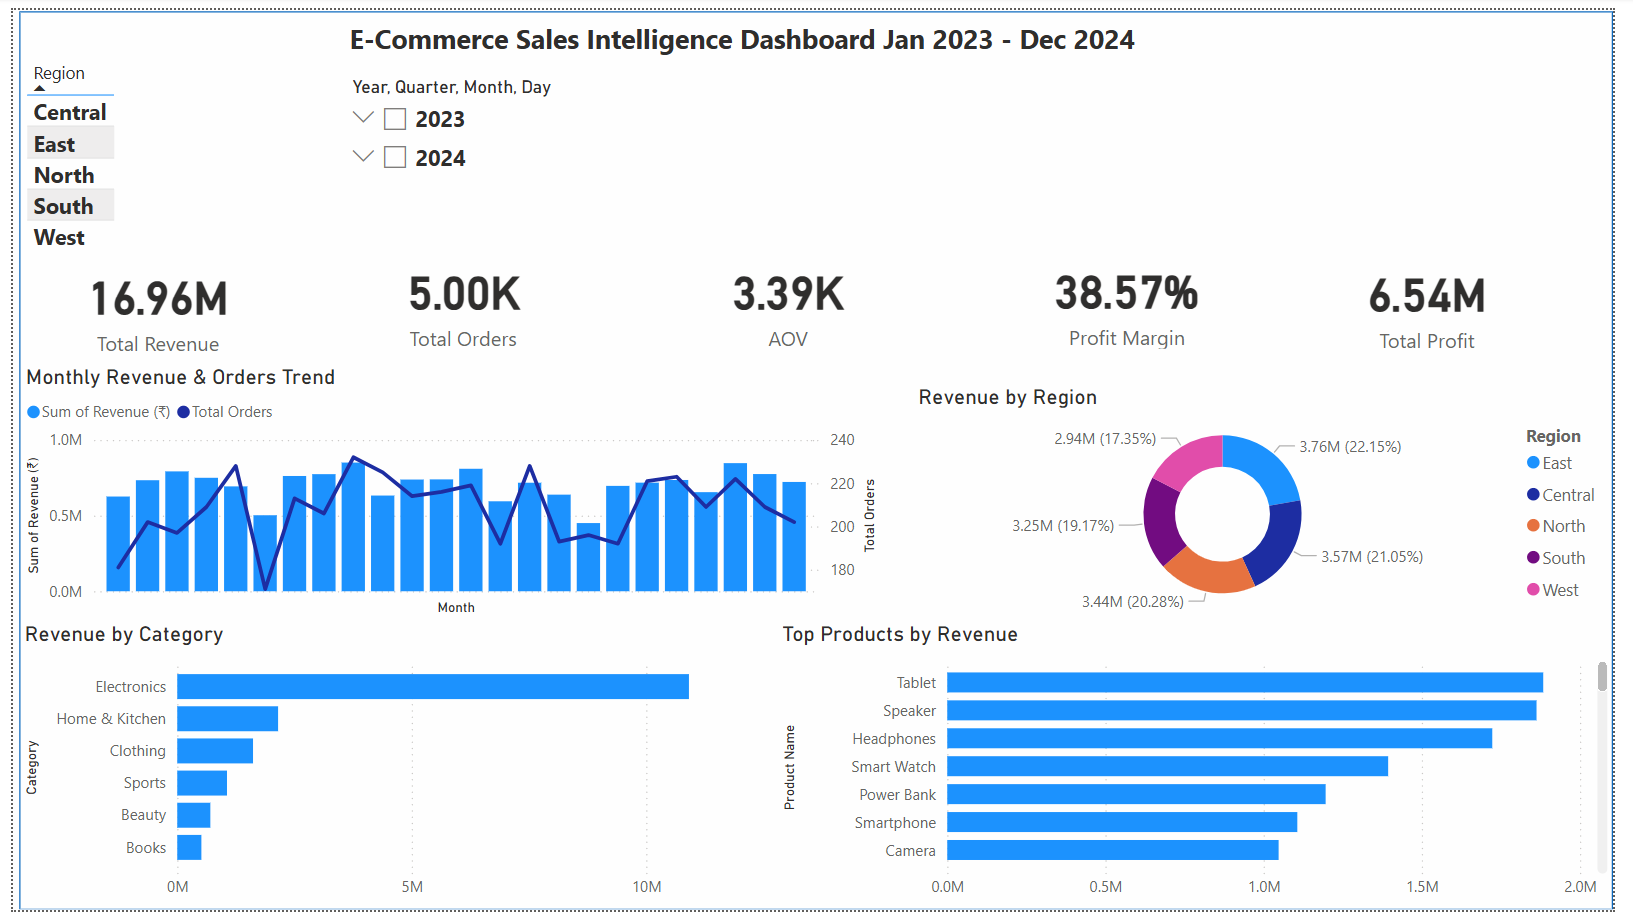

Layout of this report page (visuals, bound fields, positions):
{"tool":"powerbi","page":{"name":"Page 1","canvas":[1280,720],"ordinal":0},"visuals":[{"type":"card","fields":{"Values":["Customer Dimension Table (dim_customer).Total Revenue"]},"box":[0,192.5,231.2,90],"z":0},{"type":"card","fields":{"Values":["Customer Dimension Table (dim_customer).AOV"]},"box":[487.5,192.5,263.8,83.8],"z":1000},{"type":"card","fields":{"Values":["Customer Dimension Table (dim_customer).Total Orders"]},"box":[223.8,192.5,271.2,83.8],"z":2000},{"type":"card","fields":{"Values":["Customer Dimension Table (dim_customer).Profit Margin"]},"box":[751.2,191.2,278.8,85],"z":3000},{"type":"card","fields":{"Values":["Customer Dimension Table (dim_customer).Total Profit"]},"box":[1015,192.5,231.2,85],"z":4000},{"type":"textbox","box":[257.8,1.1,687.8,66.7],"z":5000},{"type":"tableEx","fields":{"Values":["Customer Dimension Table (dim_customer).Region"]},"box":[5,35,242.5,180],"z":6000},{"type":"slicer","fields":{"Values":["fact_orders.Order Date.Variation.Date Hierarchy.Year","fact_orders.Order Date.Variation.Date Hierarchy.Quarter","fact_orders.Order Date.Variation.Date Hierarchy.Month","fact_orders.Order Date.Variation.Date Hierarchy.Day"]},"box":[257.6,47.8,319.6,156.5],"z":7000},{"type":"donutChart","title":"Revenue by Region","fields":{"Category":["fact_orders.Region"],"Y":["Sum(fact_orders.Revenue (₹))"]},"box":[718.8,298.8,561.2,190],"z":8000},{"type":"clusteredBarChart","title":"Revenue by Category","fields":{"Category":["fact_orders.Category"],"Y":["Sum(fact_orders.Revenue (₹))"]},"box":[4.4,488.9,593.3,231.1],"z":9000},{"type":"clusteredBarChart","title":"Top Products by Revenue","fields":{"Category":["fact_orders.Product Name"],"Y":["Sum(fact_orders.Revenue (₹))"]},"box":[610,488.9,670,231.1],"z":10000},{"type":"lineClusteredColumnComboChart","title":"Monthly Revenue & Orders Trend","fields":{"Category":["fact_orders.MonthYear2"],"Y":["Sum(fact_orders.Revenue (₹))"],"Y2":["Customer Dimension Table (dim_customer).Total Orders"]},"box":[5,282.5,691.2,206.2],"z":11000}]}

Visuals, with their boxes in screenshot pixels (x1, y1, x2, y2), scaled from the page's 1280x720 canvas onto the 1633x922 screenshot:
card - Customer Dimension Table (dim_customer).Total Revenue: rect(0, 247, 295, 362)
card - Customer Dimension Table (dim_customer).AOV: rect(622, 247, 958, 354)
card - Customer Dimension Table (dim_customer).Total Orders: rect(286, 247, 632, 354)
card - Customer Dimension Table (dim_customer).Profit Margin: rect(958, 245, 1314, 354)
card - Customer Dimension Table (dim_customer).Total Profit: rect(1295, 247, 1590, 355)
textbox: rect(329, 1, 1206, 87)
tableEx - Customer Dimension Table (dim_customer).Region: rect(6, 45, 316, 275)
slicer - fact_orders.Order Date.Variation.Date Hierarchy.Year x fact_orders.Order Date.Variation.Date Hierarchy.Quarter: rect(329, 61, 736, 262)
"Revenue by Region" donutChart: rect(917, 383, 1632, 626)
"Revenue by Category" clusteredBarChart: rect(6, 626, 763, 921)
"Top Products by Revenue" clusteredBarChart: rect(778, 626, 1632, 921)
"Monthly Revenue & Orders Trend" lineClusteredColumnComboChart: rect(6, 362, 888, 626)
